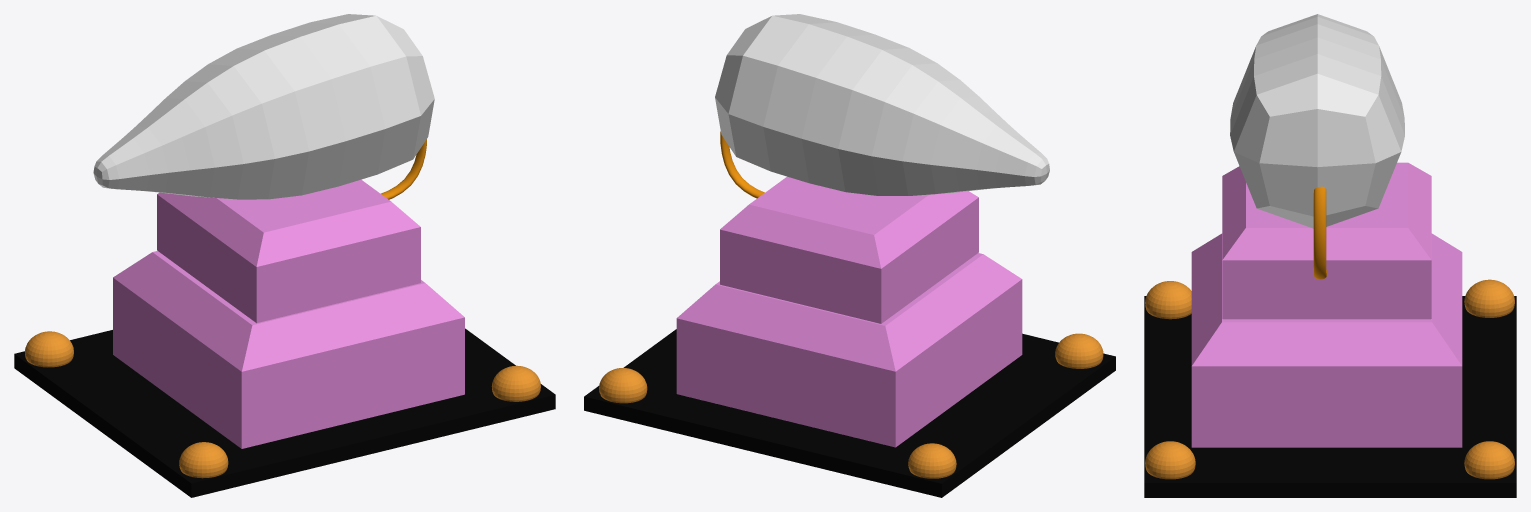
The model's file is Windows Defenders1.fbx.
The picture shows the model from 3 angles, left to right: view 1: azimuth 30°, elevation 25°; view 2: azimuth 150°, elevation 25°; view 3: azimuth 270°, elevation 25°; orthographic projection. The views are drawn at different scales.
Visible parts, largest first — view 1: Cube, Cube.013, Cube.014, Cube.015, Sphere.008, Sphere.011, Sphere.010, Turret; view 2: Cube, Cube.013, Cube.014, Cube.015, Sphere.008, Sphere.009, Sphere.011, Turret; view 3: Cube.013, Cube.015, Cube, Cube.014, Sphere.009, Sphere.010, Sphere.008, Sphere.011, Turret.
Part boxes in pixels (x1,y1,x2,y2): Cube: (93,14,434,199); Cube.013: (113,251,464,448); Cube.014: (157,179,420,323); Cube.015: (14,328,555,497); Sphere.008: (25,331,73,367); Sphere.011: (179,442,228,478); Sphere.010: (491,365,540,401); Turret: (381,139,426,199); Cube: (715,14,1049,195); Cube.013: (676,253,1022,447); Cube.014: (720,176,978,323); Cube.015: (584,329,1115,497); Sphere.008: (908,443,956,478); Sphere.009: (599,368,647,403); Sphere.011: (1055,333,1103,368); Turret: (720,131,764,198); Cube.013: (1191,233,1462,447); Cube.015: (1144,296,1516,497); Cube: (1230,14,1404,228); Cube.014: (1222,162,1431,319); Sphere.009: (1464,441,1514,479); Sphere.010: (1145,441,1195,479); Sphere.008: (1464,279,1514,317); Sphere.011: (1145,281,1191,319); Turret: (1313,186,1326,279).
Bounding box in the file's own units: 681 × 618 × 555.
